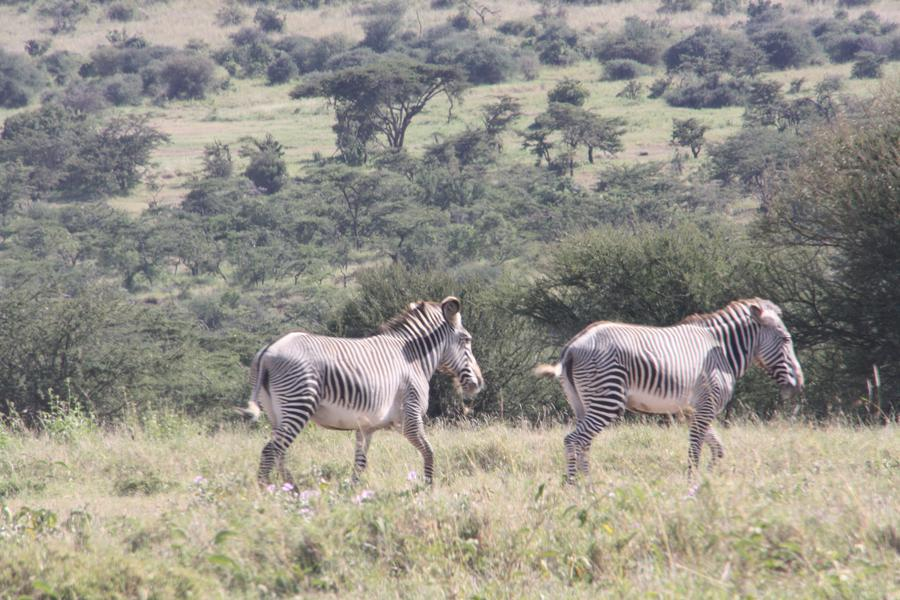zebra_grevys: (561, 317, 725, 400)
